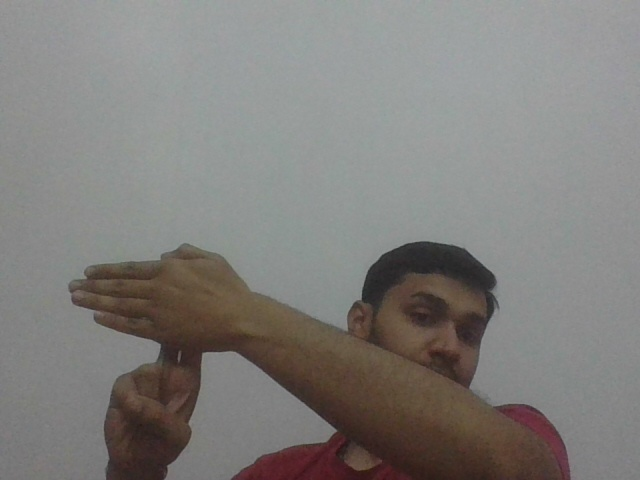N: (66, 242, 242, 374)
